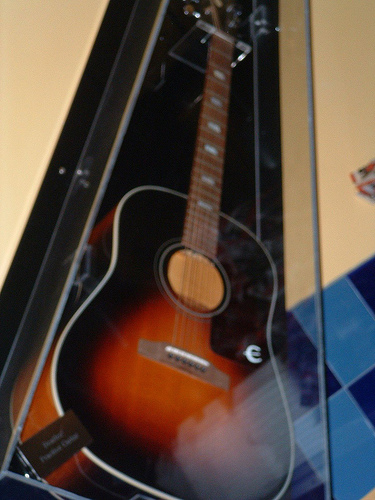guitar: (11, 1, 290, 500)
